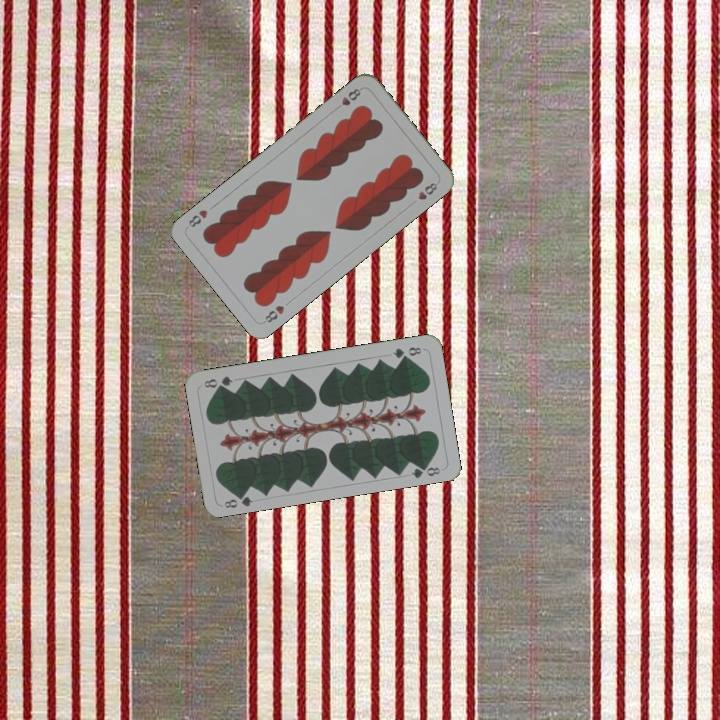G8: (220, 488, 255, 511), (389, 343, 424, 361)
H8: (259, 301, 287, 326), (337, 84, 363, 108)
